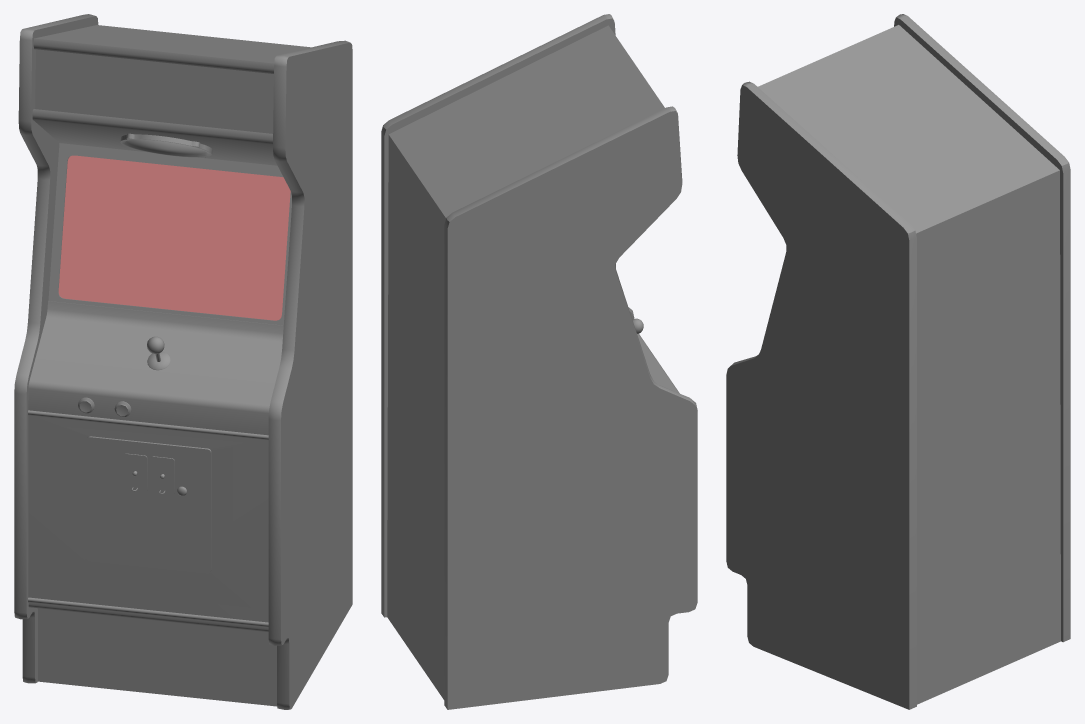
The model's file is Freddy Arcade.fbx.
The picture shows the model from 3 angles, left to right: view 1: azimuth 30°, elevation 25°; view 2: azimuth 150°, elevation 25°; view 3: azimuth 270°, elevation 25°; orthographic projection. The views are drawn at different scales.
Visible parts, largest first — view 1: MOD_ArcadeCabinent_00; view 2: MOD_ArcadeCabinent_00; view 3: MOD_ArcadeCabinent_00.
Part boxes in pixels (<box>): MOD_ArcadeCabinent_00: <box>14,14,352,709</box>; MOD_ArcadeCabinent_00: <box>381,14,697,709</box>; MOD_ArcadeCabinent_00: <box>726,14,1070,709</box>.
Bounding box in the file's own units: 103 × 185 × 103.
